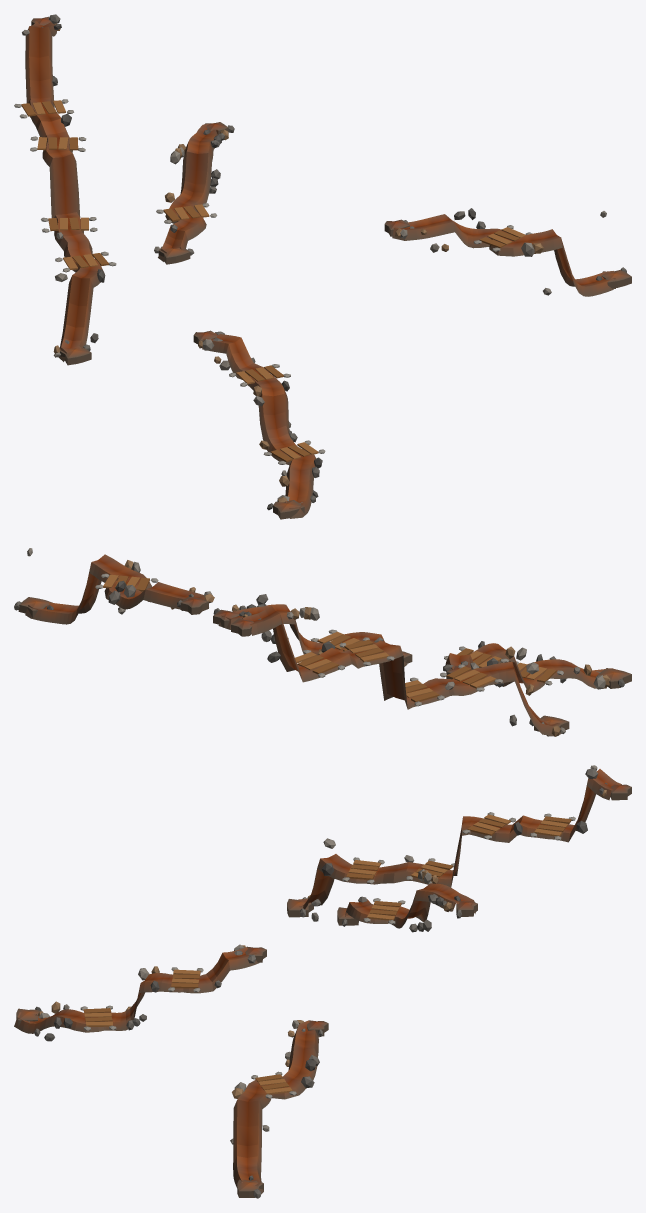
Rendered from mountain_landslides.glb.
The picture shows the model from 3 angles, top to bottom: view 1: azimuth 30°, elevation 25°; view 2: azimuth 150°, elevation 25°; view 3: azimuth 270°, elevation 25°; orthographic projection. The views are drawn at different scales.
Visible parts, largest first — view 1: MountainLandslideChutes, MountainLandslideCrossings, MountainLandslideRocks; view 2: MountainLandslideChutes, MountainLandslideCrossings, MountainLandslideRocks; view 3: MountainLandslideChutes, MountainLandslideCrossings, MountainLandslideRocks.
Boxes of the visible parts, x1,y1,x2,y2 form: MountainLandslideChutes: (25, 16, 631, 519); MountainLandslideCrossings: (14, 99, 531, 464); MountainLandslideRocks: (22, 14, 626, 510); MountainLandslideChutes: (18, 554, 631, 736); MountainLandslideCrossings: (95, 573, 563, 706); MountainLandslideRocks: (14, 548, 624, 736); MountainLandslideChutes: (14, 769, 631, 1197); MountainLandslideCrossings: (80, 812, 575, 1098); MountainLandslideRocks: (27, 765, 607, 1198).
Bounding box in the file's own units: 16.86 × 8.22 × 16.58.
